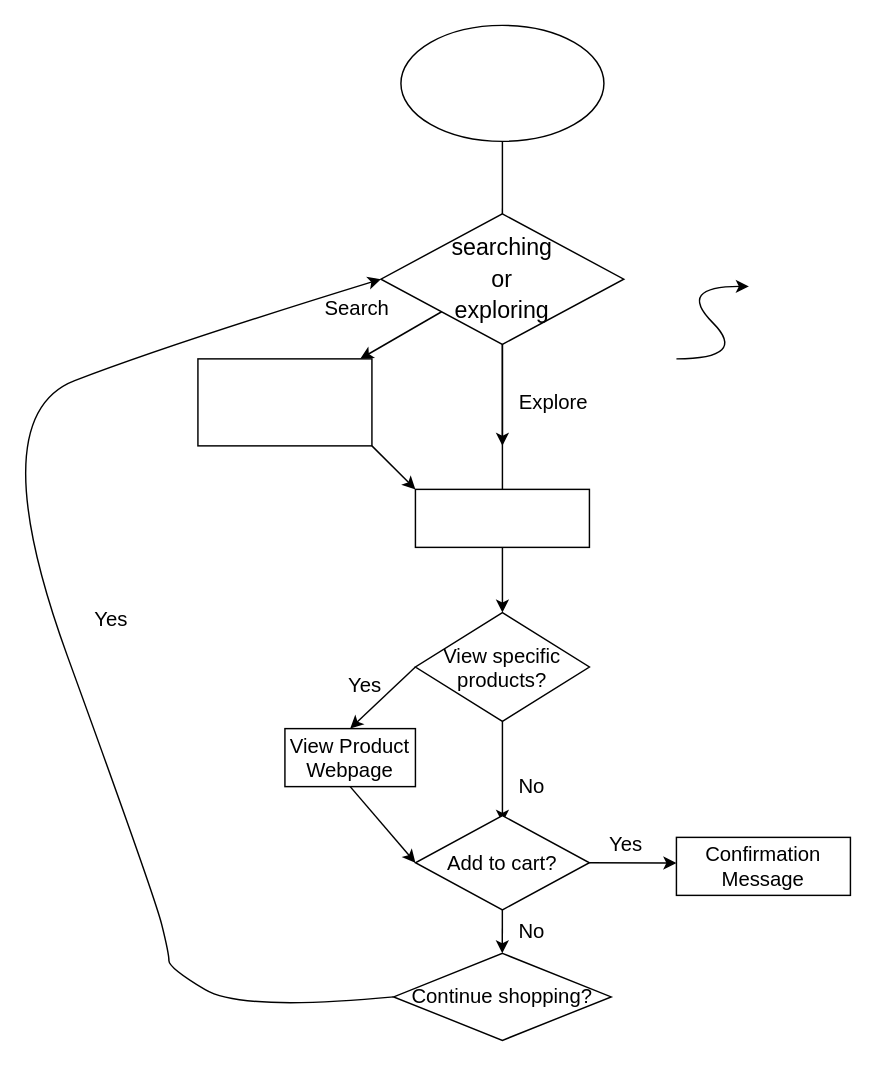
Image size: 876x1066. Some labels were removed from this diagram. Here are the shapes that lost their labels. From the top down, the centre of each, then its label:
At point (501, 82): "Start".
At point (284, 401): "users' input".
At point (501, 517): "View Products".
